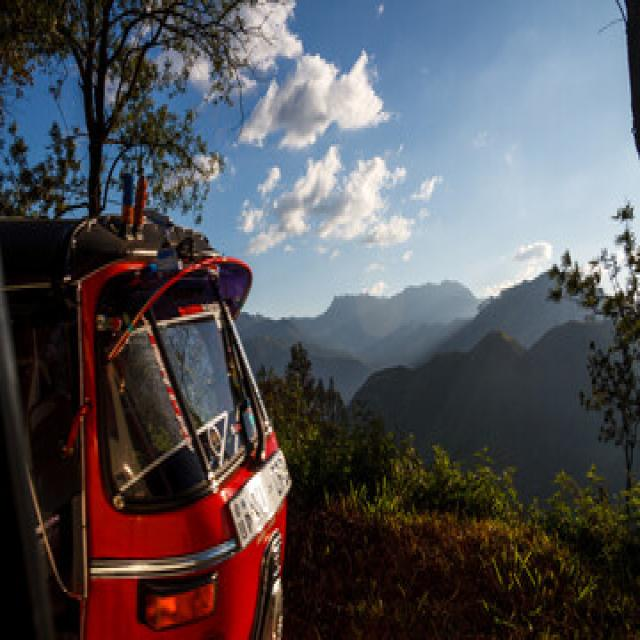three wheeler: (0, 208, 288, 637)
